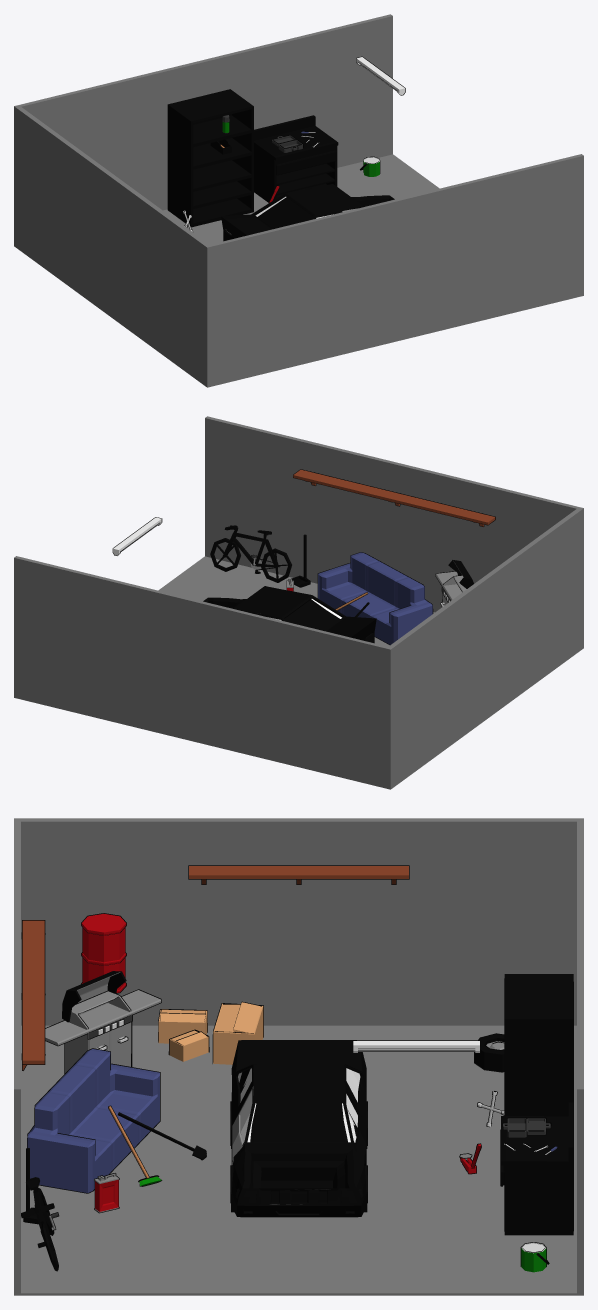
Rendered from Garage.fbx.
The picture shows the model from 3 angles, top to bottom: view 1: azimuth 30°, elevation 25°; view 2: azimuth 150°, elevation 25°; view 3: azimuth 270°, elevation 25°; orthographic projection. The views are drawn at different scales.
Parts seen in each view (by area): view 1: Cube, Cube.016, Cube.006, Cube.018, Cube.050, Cube.046; view 2: Cube, Cube.017, Cube.018, Cube.011, Cube.089, Cube.066, Cube.046; view 3: Cube, Cube.018, Cube.017, Cube.016, Cube.006, Cube.089, Cube.011, Cube.009, Cube.015, Cube.034, Cube.046, Cube.032 (+10 smaller).
Boxes of the visible parts, x1,y1,x2,y2 form: Cube: (14, 14, 583, 387); Cube.016: (167, 89, 253, 227); Cube.006: (254, 115, 338, 202); Cube.018: (221, 184, 394, 241); Cube.050: (276, 150, 337, 175); Cube.046: (356, 56, 405, 95); Cube: (14, 416, 583, 789); Cube.017: (317, 552, 433, 645); Cube.018: (203, 586, 376, 643); Cube.011: (293, 469, 495, 526); Cube.089: (435, 560, 473, 606); Cube.066: (222, 525, 279, 567); Cube.046: (112, 517, 162, 555); Cube: (14, 818, 583, 1295); Cube.018: (231, 1040, 366, 1217); Cube.017: (27, 1048, 160, 1193); Cube.016: (504, 974, 573, 1116); Cube.006: (501, 1102, 573, 1235); Cube.089: (45, 971, 161, 1073); Cube.011: (21, 920, 45, 1070); Cube.009: (188, 865, 409, 884); Cube.015: (81, 913, 126, 993); Cube.034: (212, 1001, 263, 1064); Cube.046: (353, 1040, 480, 1053); Cube.032: (158, 1009, 207, 1043).
Size of the model in its own units: 1633 by 580 by 1452.
